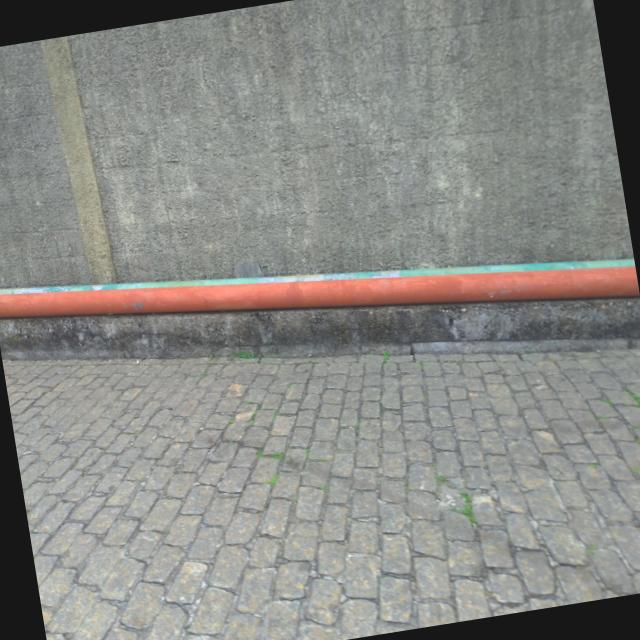gas: (0, 268, 640, 320)
